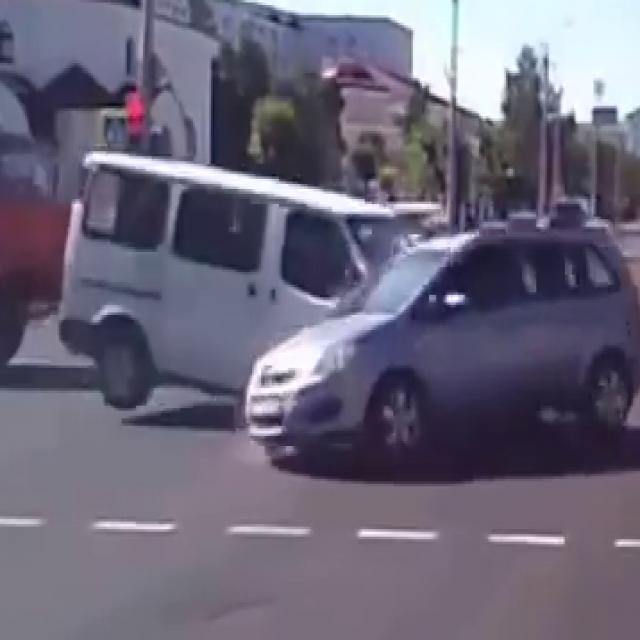accident: (184, 148, 523, 492)
